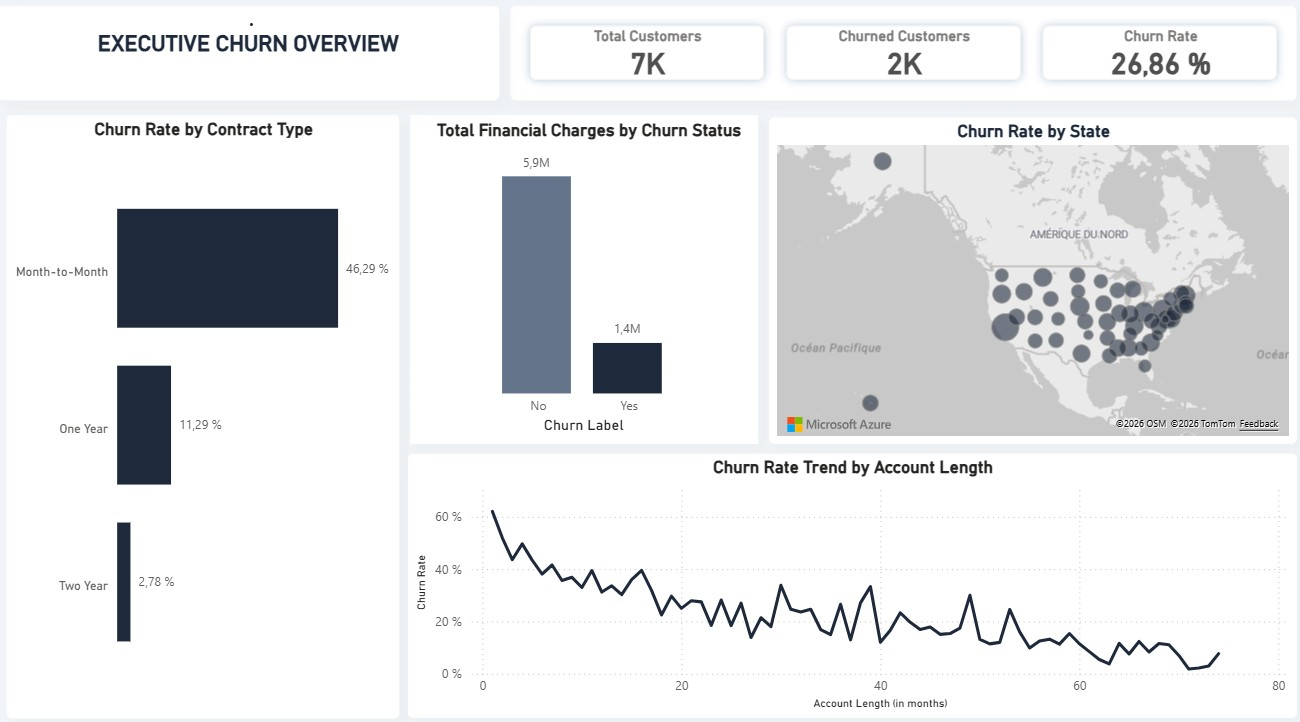

This screenshot's page, from the dashboard's own definition file:
{"tool":"powerbi","page":{"name":"Overview","canvas":[1280,720],"ordinal":0},"visuals":[{"type":"cardVisual","fields":{"Data":["_Measures.Total Customers","_Measures.Churned Customers","_Measures.Churn Rate"]},"box":[501.4,11,769.2,91.7],"z":0},{"type":"clusteredBarChart","title":"Churn Rate by Contract Type","fields":{"Category":["Dim_Contract.Contract Type"],"Y":["_Measures.Churn Rate"]},"box":[8.6,117.4,384,590.6],"z":1000},{"type":"columnChart","title":"Total Financial Charges by Churn Status","fields":{"Category":["Dim_Churn.Churn Label"],"Y":["Sum(Fact_Subscriptions.Total Charges)"]},"box":[403.5,117.4,339.9,321.6],"z":2000},{"type":"azureMap","title":"Churn Rate by State","fields":{"Size":["_Measures.Churn Rate"],"Category":["Dim_Customer.State"]},"box":[754.5,119.8,516,319.2],"z":3000},{"type":"textbox","box":[0,11,490.4,91.7],"z":4000},{"type":"lineChart","title":"Churn Rate Trend by Account Length","fields":{"Y":["_Measures.Churn Rate"],"Category":["Fact_Subscriptions.Account Length (in months)"]},"box":[401.1,448.8,869.4,258],"z":5000}]}

Visuals, with their boxes in screenshot pixels (x1, y1, x2, y2), scaled from the page's 1280x720 canvas onto the 1300x722 screenshot:
cardVisual - _Measures.Total Customers x _Measures.Churned Customers: {"left": 509, "top": 11, "right": 1290, "bottom": 103}
"Churn Rate by Contract Type" clusteredBarChart: {"left": 9, "top": 118, "right": 399, "bottom": 710}
"Total Financial Charges by Churn Status" columnChart: {"left": 410, "top": 118, "right": 755, "bottom": 440}
"Churn Rate by State" azureMap: {"left": 766, "top": 120, "right": 1290, "bottom": 440}
textbox: {"left": 0, "top": 11, "right": 498, "bottom": 103}
"Churn Rate Trend by Account Length" lineChart: {"left": 407, "top": 450, "right": 1290, "bottom": 709}
